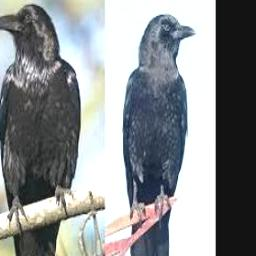Crow: (0, 4, 82, 256), (122, 12, 197, 256)
